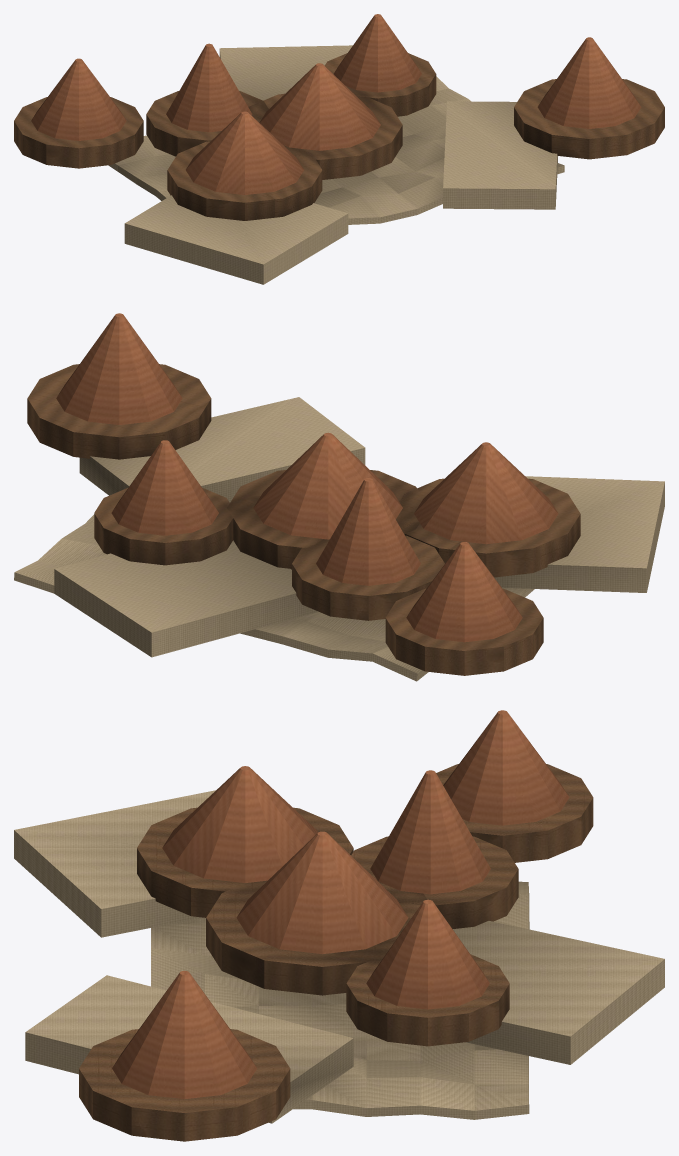
The model's file is mat_spice.glb.
3 views of the same model, one above another, from view 1: azimuth 30°, elevation 25°; view 2: azimuth 150°, elevation 25°; view 3: azimuth 270°, elevation 25° (orthographic). The views are drawn at different scales.
Parts seen in each view (by area): view 1: mat_spice; view 2: mat_spice; view 3: mat_spice.
Boxes of the visible parts, x1,y1,x2,y2 form: mat_spice: (14, 14, 664, 284); mat_spice: (14, 313, 664, 681); mat_spice: (14, 710, 664, 1141).
Bounding box in the file's own units: 1.33 × 0.304 × 1.03.
Materials: 3 (3 with a texture image).
